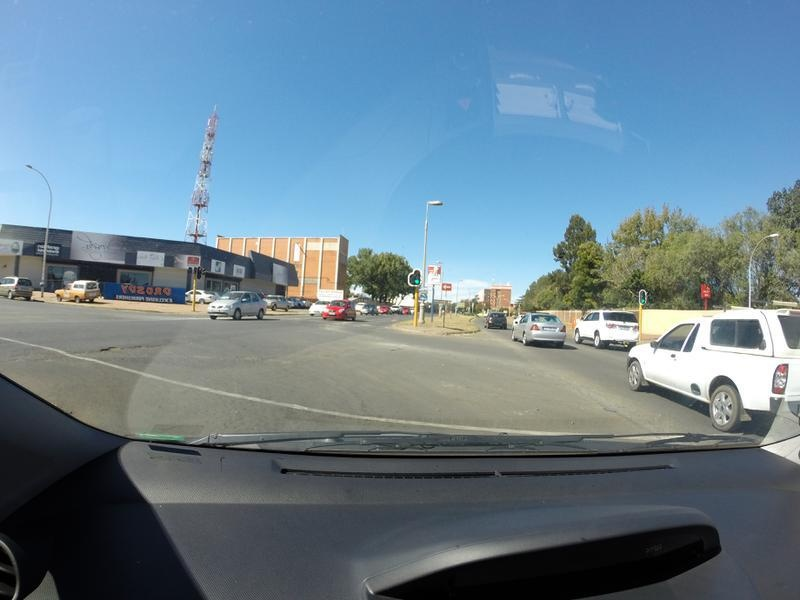pothole: (93, 334, 166, 357), (387, 345, 403, 355)
